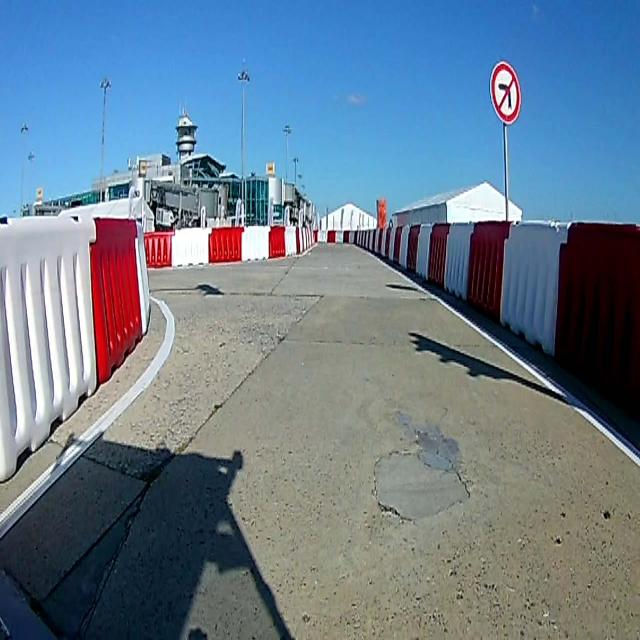soladonulmez: (488, 61, 523, 123)
